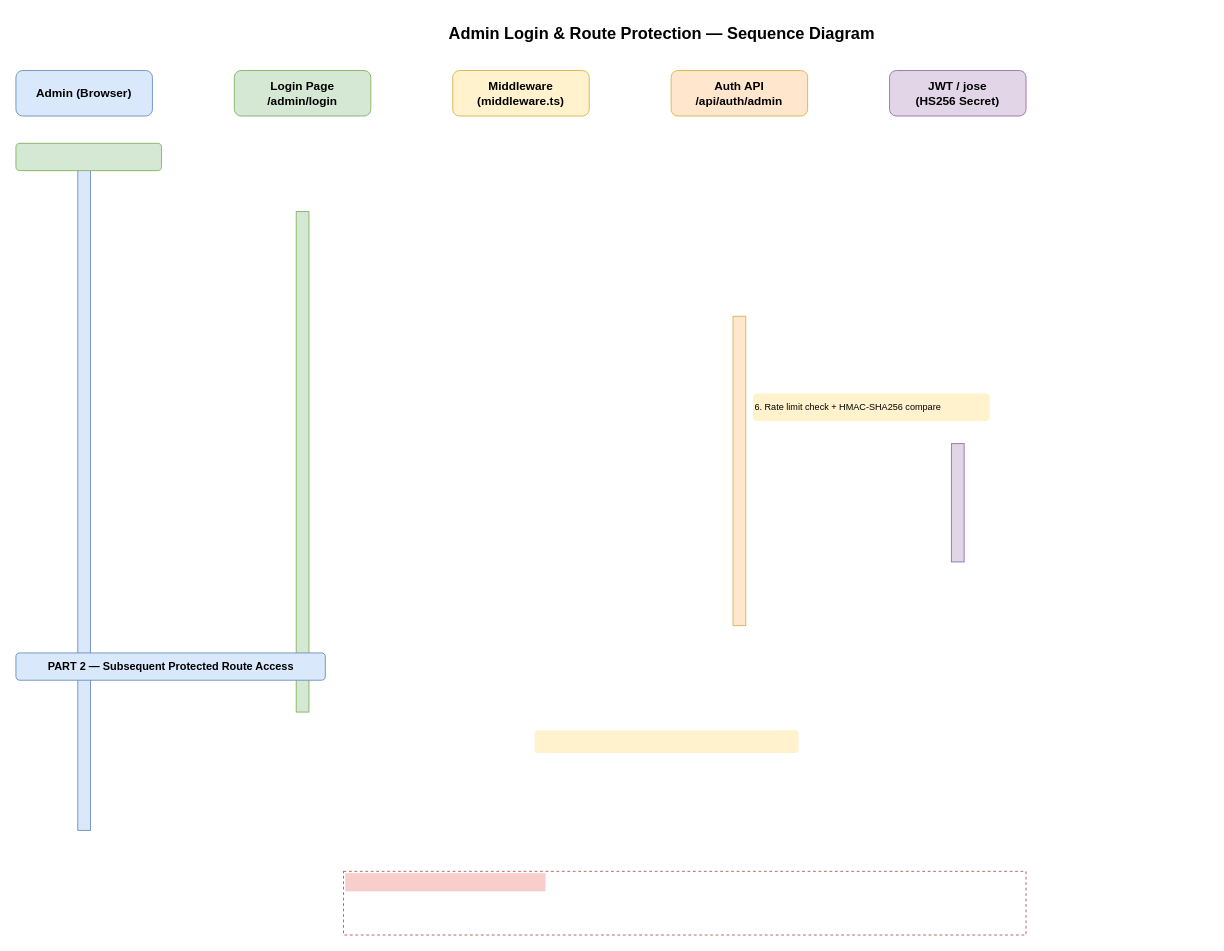
This 1224x951 diagram has some shape labels left out. Each missing label, with the centre of its shape:
"11. pathname starts with /admin → check cookie" goes at point 666,741.
"alt [Token invalid / expired]" goes at point 445,882.
"PART 1 — Login" goes at point 88,156.
